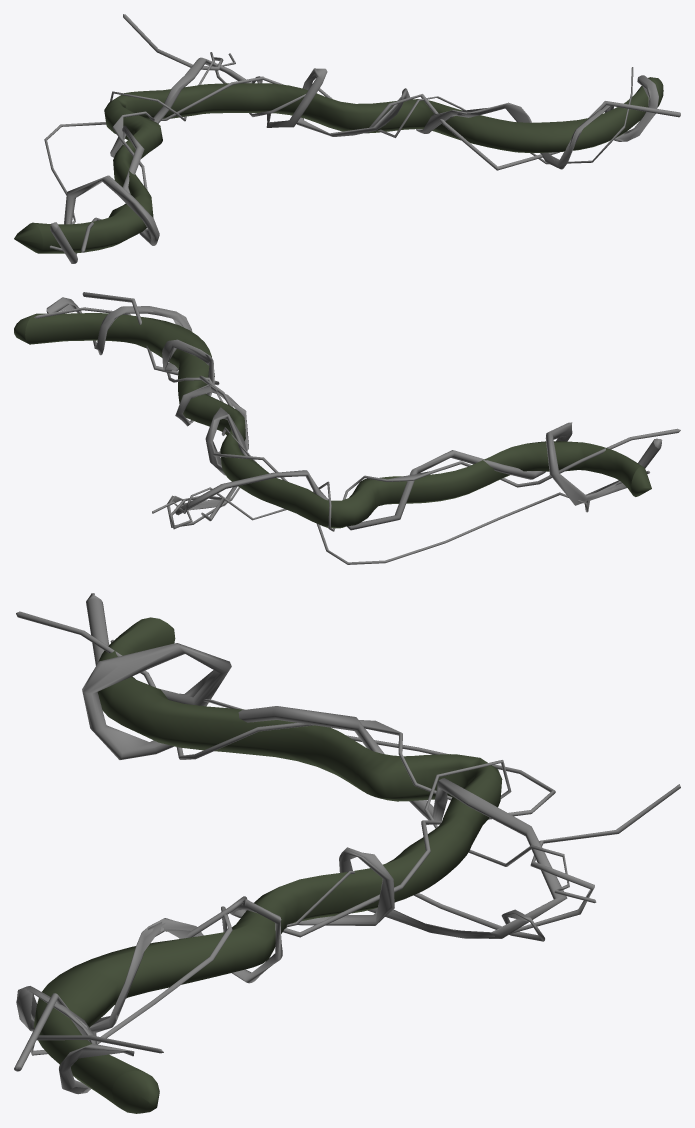
File: liana.fbx
The picture shows the model from 3 angles, top to bottom: view 1: azimuth 30°, elevation 25°; view 2: azimuth 150°, elevation 25°; view 3: azimuth 270°, elevation 25°; orthographic projection. The views are drawn at different scales.
Visible parts, largest first — view 1: Objeto_1, Objeto_2, Objeto_4, Objeto_6, Objeto_5; view 2: Objeto_1, Objeto_2, Objeto_4, Objeto_5, Objeto_6; view 3: Objeto_1, Objeto_2, Objeto_6, Objeto_5, Objeto_4.
Part boxes in pixels (bbox=[...]): Objeto_1: bbox=[14, 77, 663, 253]; Objeto_2: bbox=[50, 57, 658, 263]; Objeto_4: bbox=[44, 76, 680, 254]; Objeto_6: bbox=[123, 14, 633, 164]; Objeto_5: bbox=[81, 52, 235, 252]; Objeto_1: bbox=[14, 313, 651, 528]; Objeto_2: bbox=[46, 297, 662, 530]; Objeto_4: bbox=[82, 292, 649, 564]; Objeto_5: bbox=[152, 428, 680, 531]; Objeto_6: bbox=[34, 307, 256, 529]; Objeto_1: bbox=[34, 617, 502, 1113]; Objeto_2: bbox=[16, 593, 567, 1094]; Objeto_6: bbox=[30, 784, 680, 1055]; Objeto_5: bbox=[16, 611, 596, 903]; Objeto_4: bbox=[14, 640, 555, 1071].
Size of the model in its own units: 87.37 by 9.46 by 51.78.
